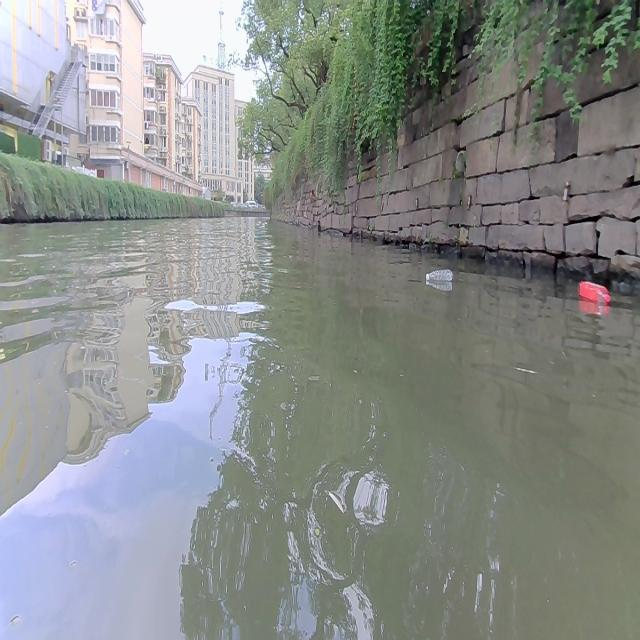bottle: (578, 280, 610, 302), (424, 267, 452, 281)
